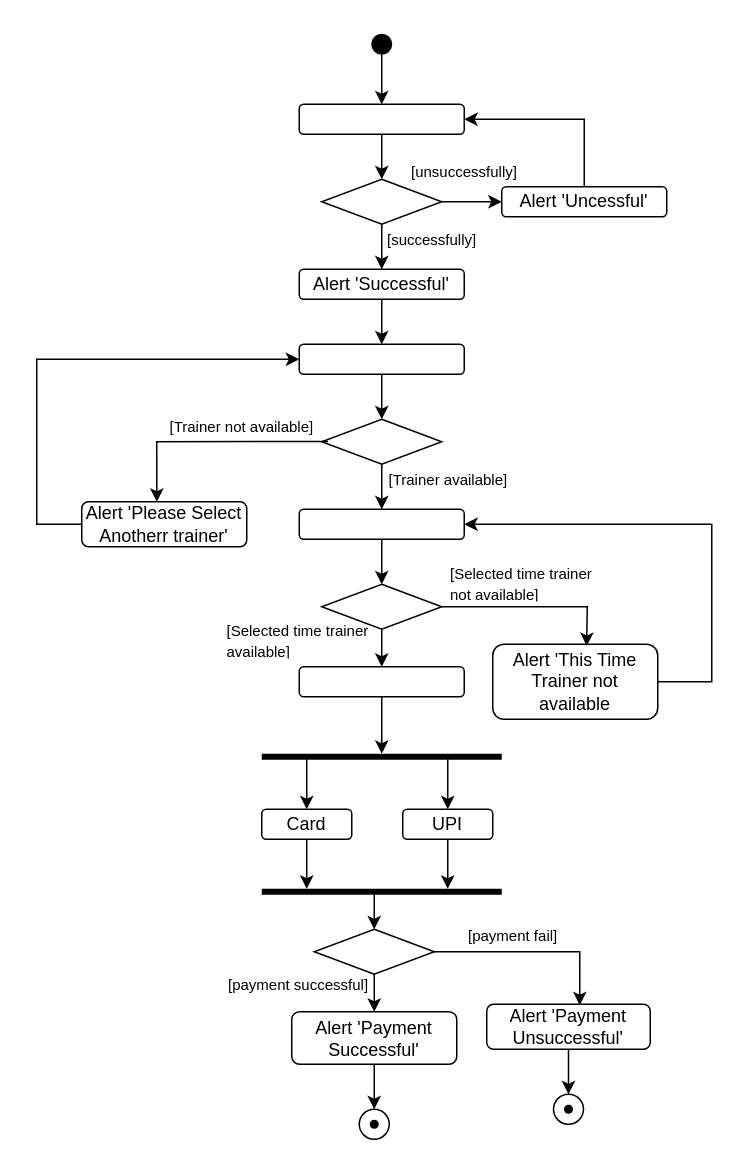
The diagram is 750 pixels wide and 1166 high, and some of its shapes have lost their labels. Here are the shapes that lost their labels. From the top down, the centre of each, then its label:
At (381,118): "Login".
At (381,358): "Select Trainer".
At (381,523): "Set Time".
At (381,681): "Payment".
